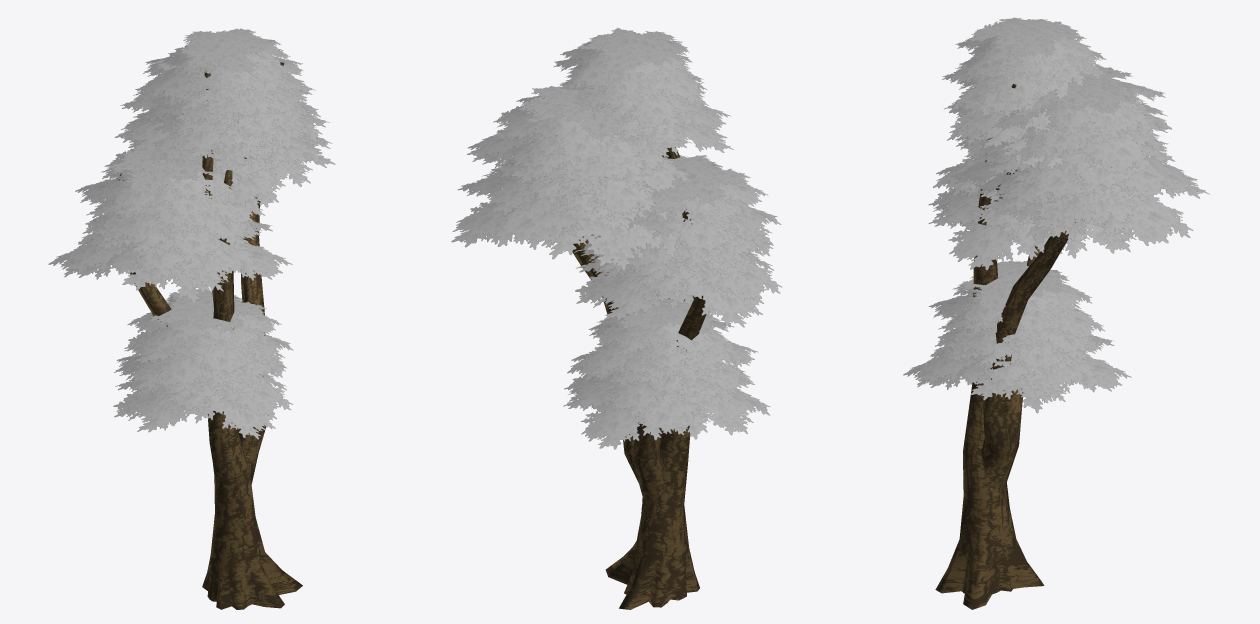
File: treeOak01.fbx
The picture shows the model from 3 angles, left to right: view 1: azimuth 30°, elevation 25°; view 2: azimuth 150°, elevation 25°; view 3: azimuth 270°, elevation 25°; orthographic projection. The views are drawn at different scales.
Parts seen in each view (by area): view 1: leaves_Clone___3_, Mesh; view 2: leaves_Clone___3_, Mesh; view 3: leaves_Clone___3_, Mesh.
Part boxes in pixels (x1,y1,x2,y2): leaves_Clone___3_: (48, 28, 335, 439); Mesh: (116, 62, 302, 609); leaves_Clone___3_: (451, 27, 782, 449); Mesh: (572, 147, 706, 609); leaves_Clone___3_: (903, 17, 1209, 413); Mesh: (935, 84, 1075, 609).
Bounding box in the file's own units: 585 × 864 × 526.
